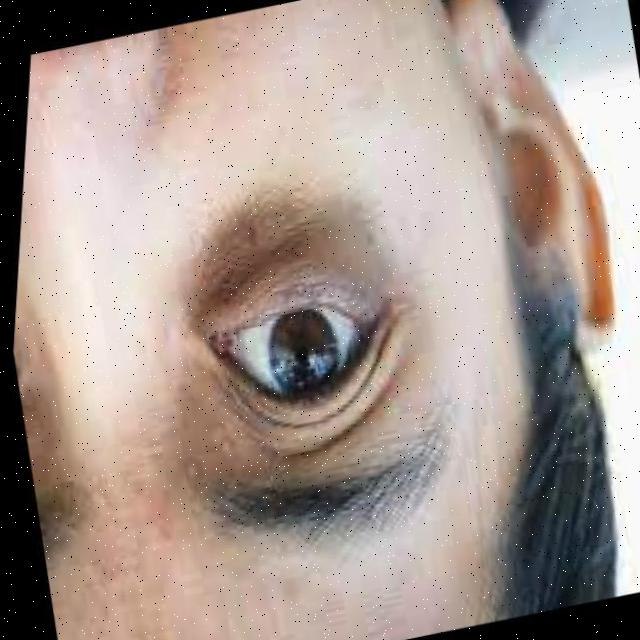puffy_eyes: (181, 188, 371, 329)
